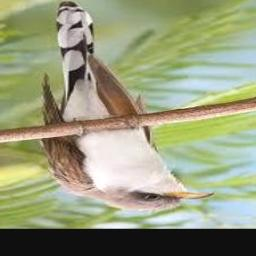Cuckoo: (41, 2, 214, 212)
